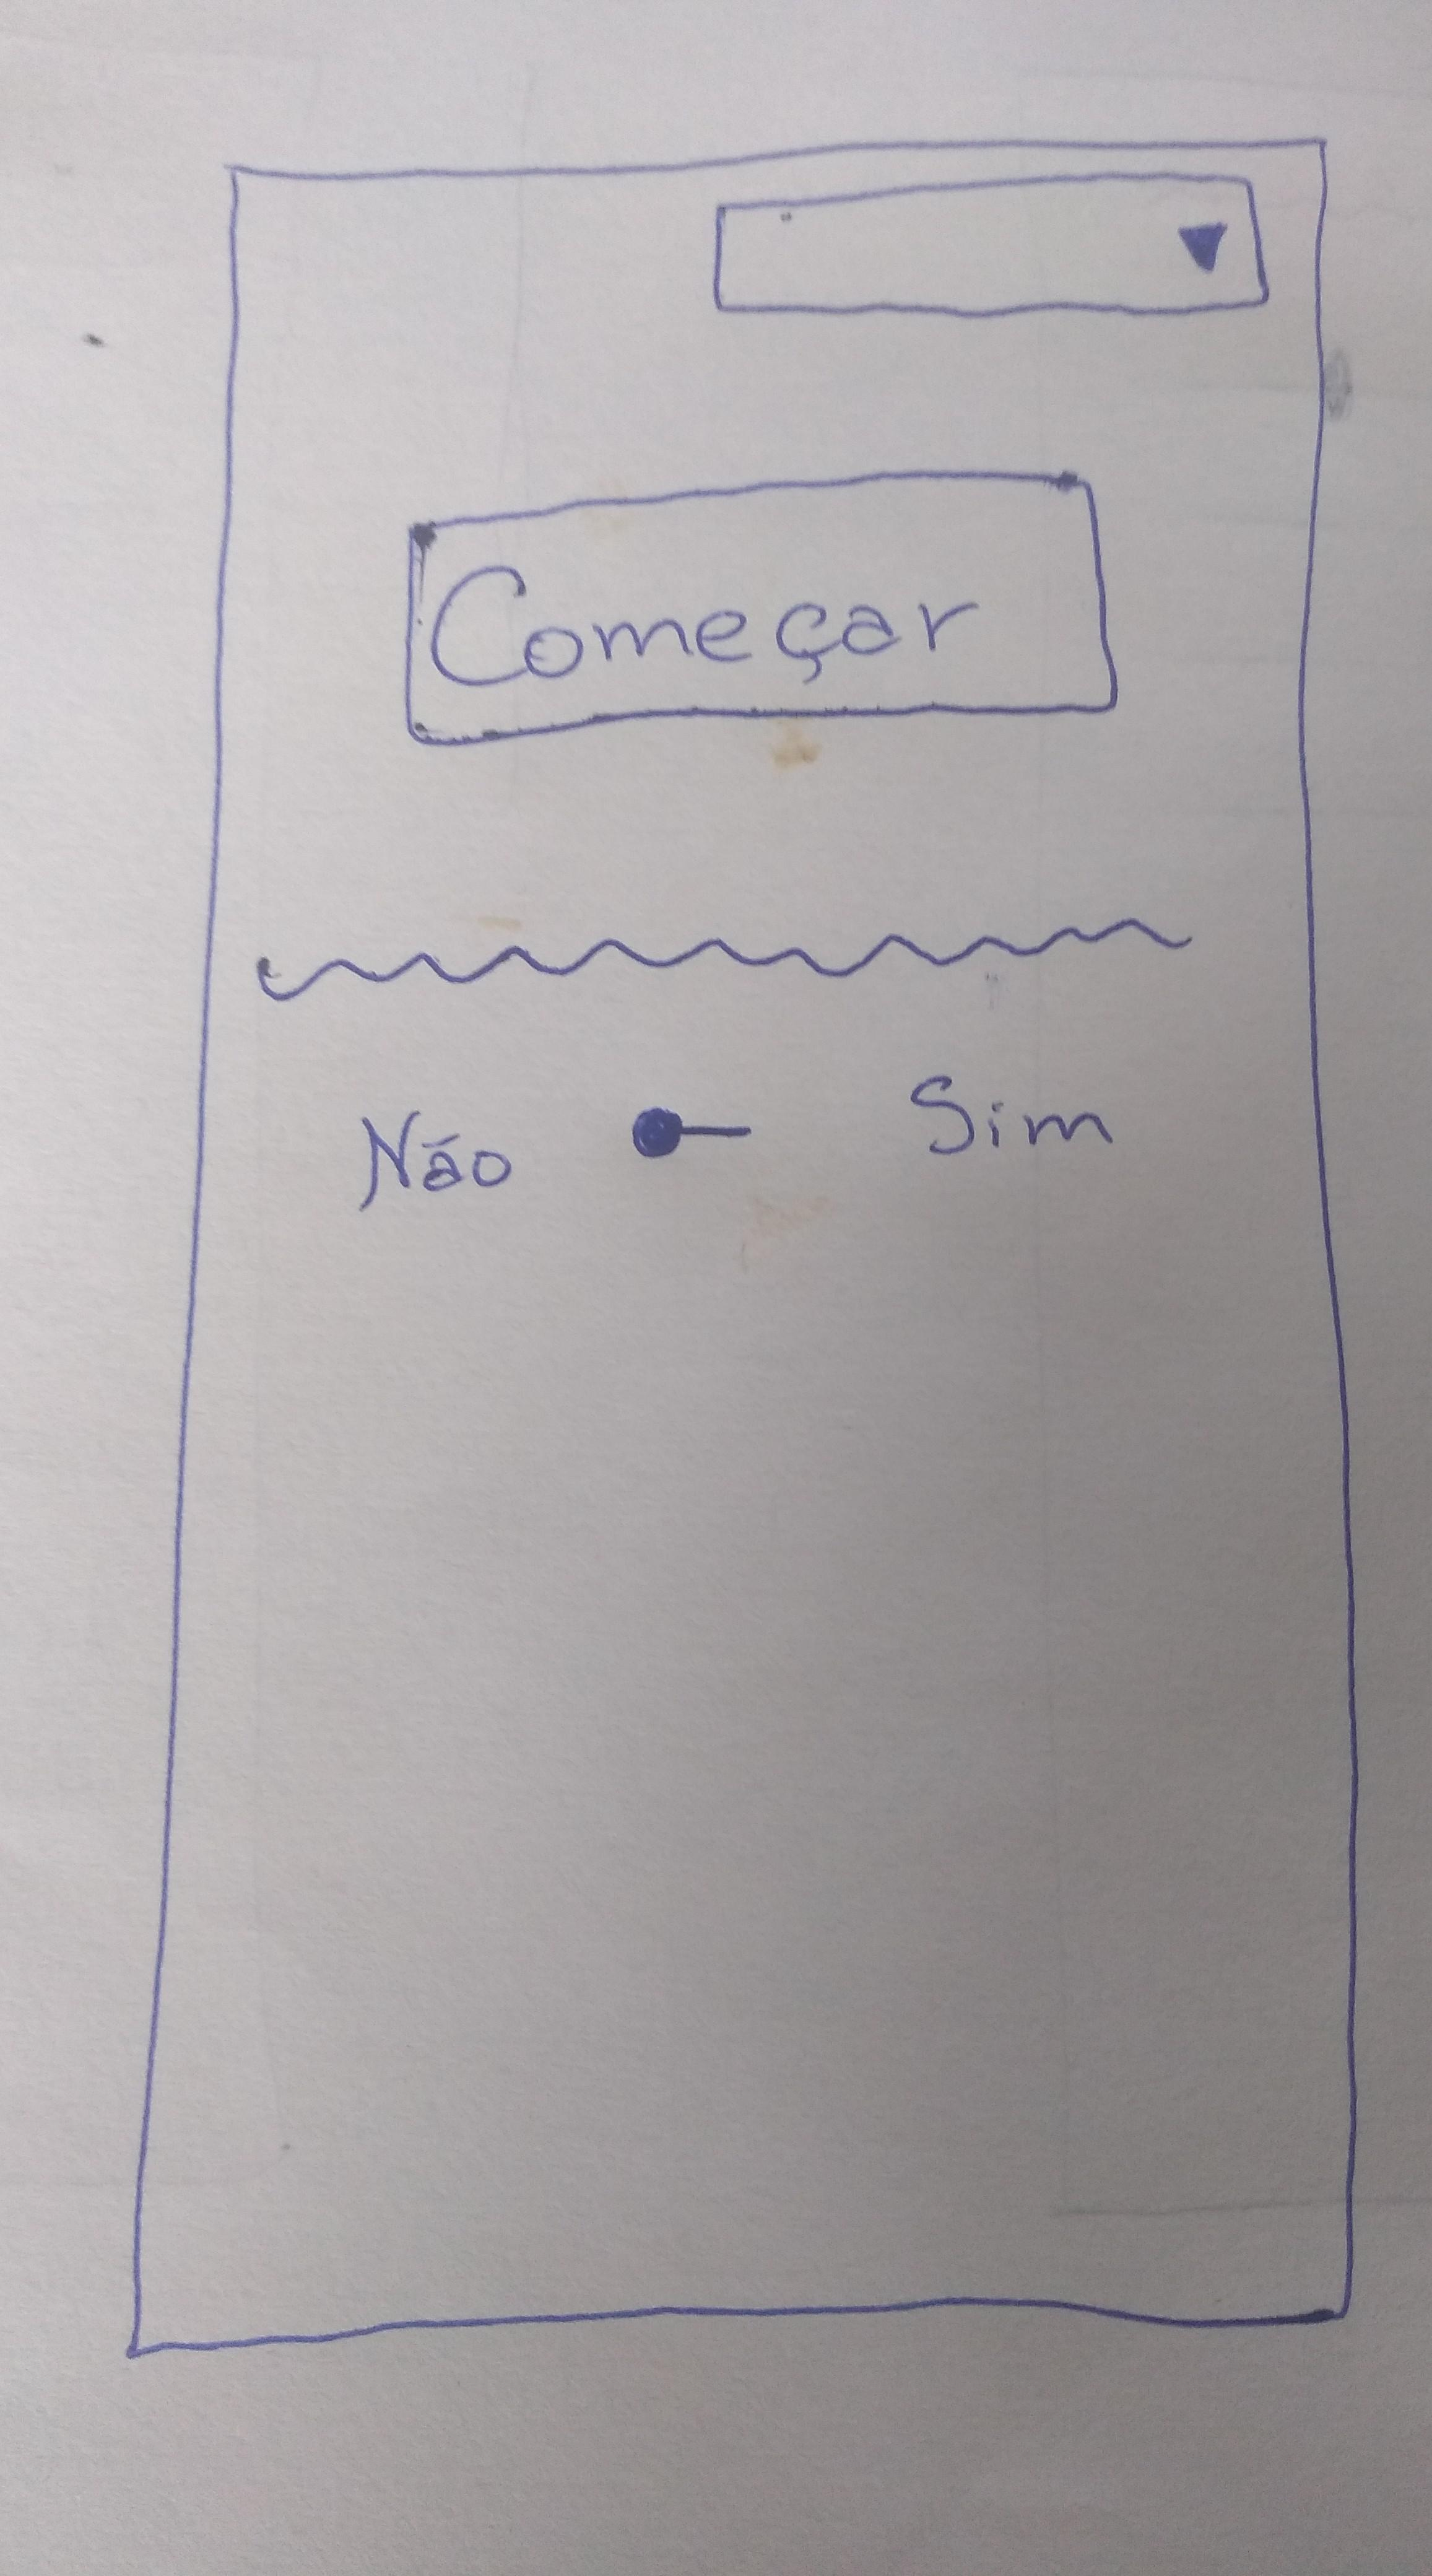Button: (404, 467, 1120, 748)
Label: (254, 915, 1189, 1005), (905, 1072, 1116, 1155), (358, 1109, 515, 1211)
ListPicker: (711, 175, 1270, 316)
Screen: (129, 138, 1356, 2359)
Switch: (631, 1109, 753, 1157)
